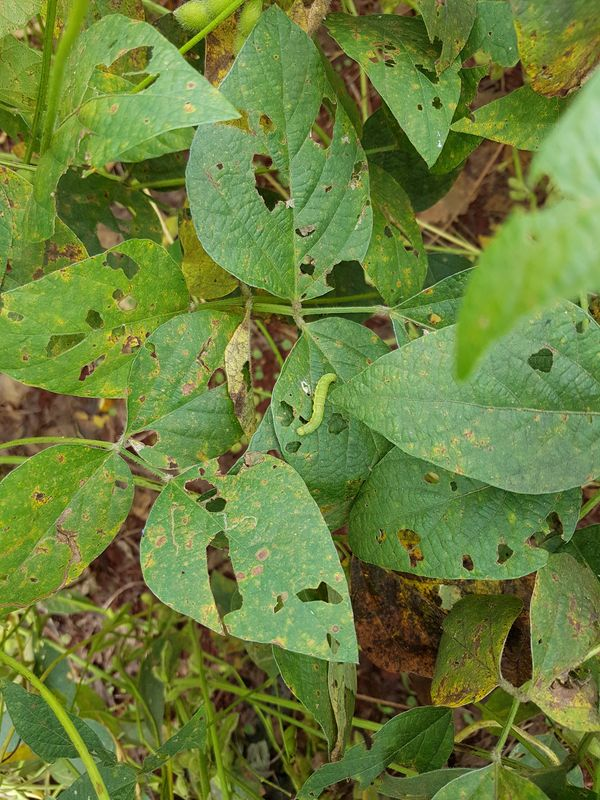Anticarsia_gemmatalis: (288, 367, 347, 441)
